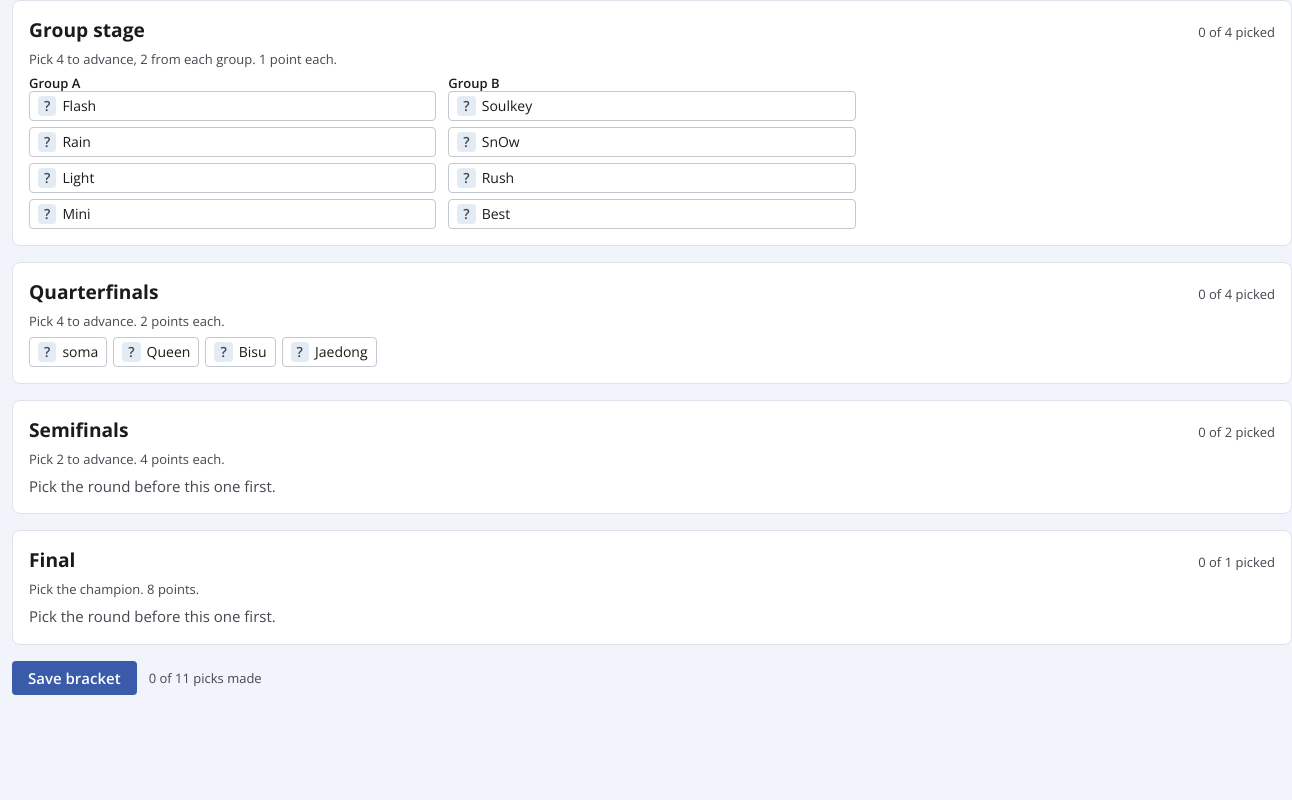
it: BracketEditor › saves the bracket and says how much of it is filled in
Click the button "? Flash" at point(79, 106), box [29,91,436,121]
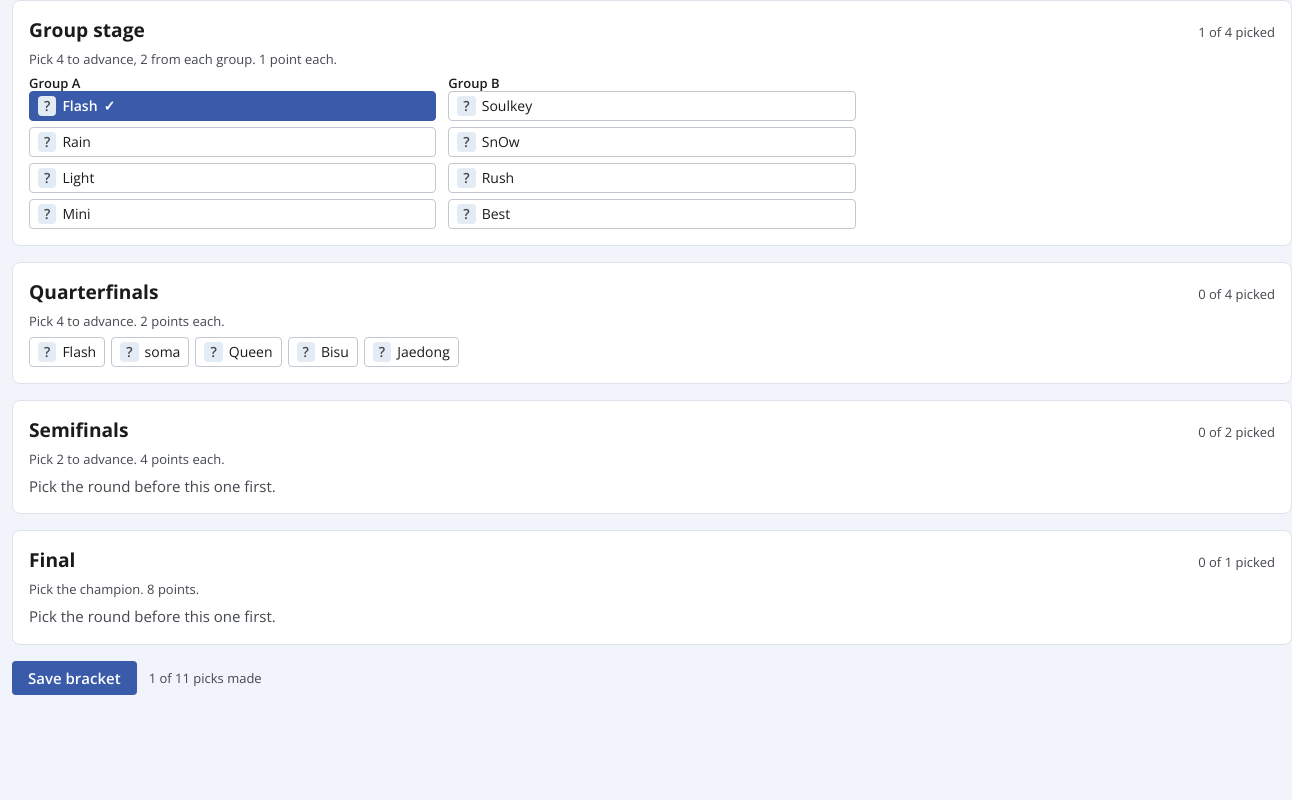
Click the button "? soma" at point(150, 352), box [111,337,189,367]
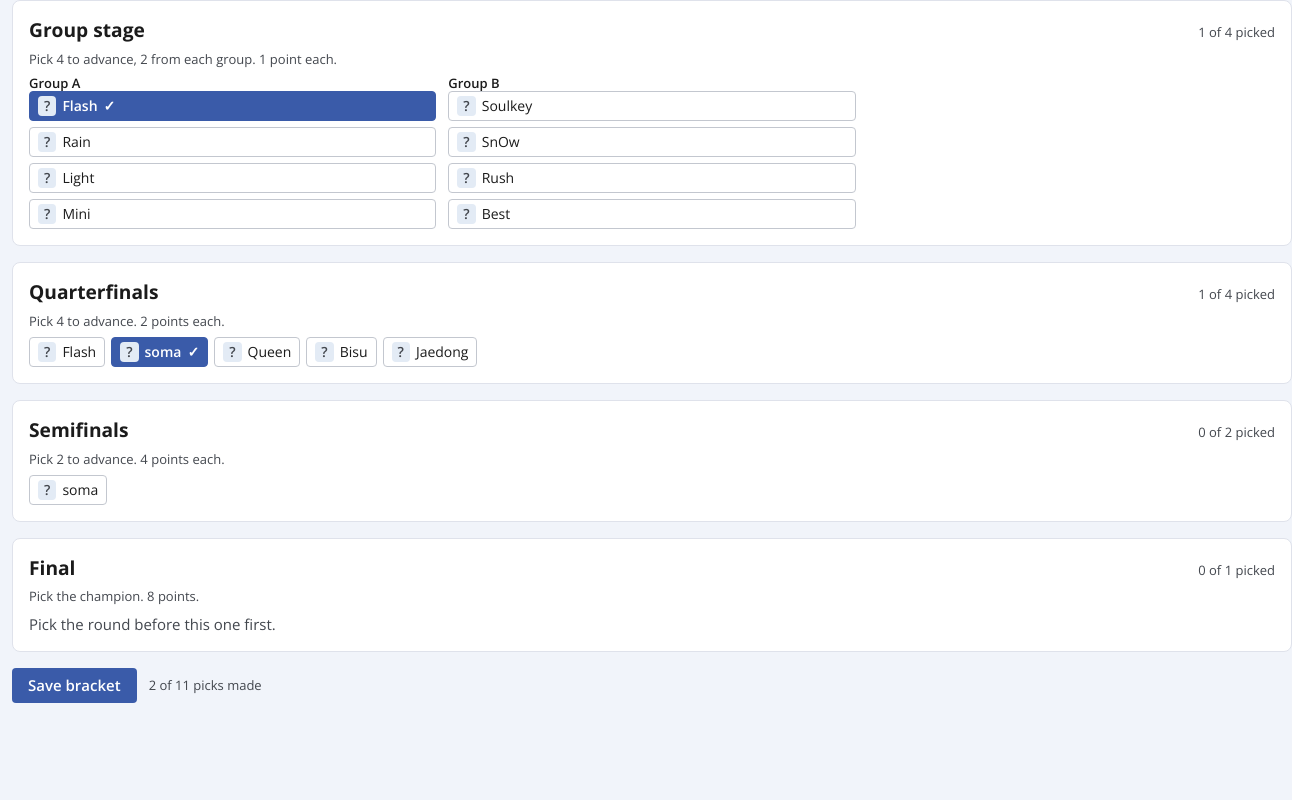
Click the button "Save bracket" at point(74, 685), box [12,668,137,703]
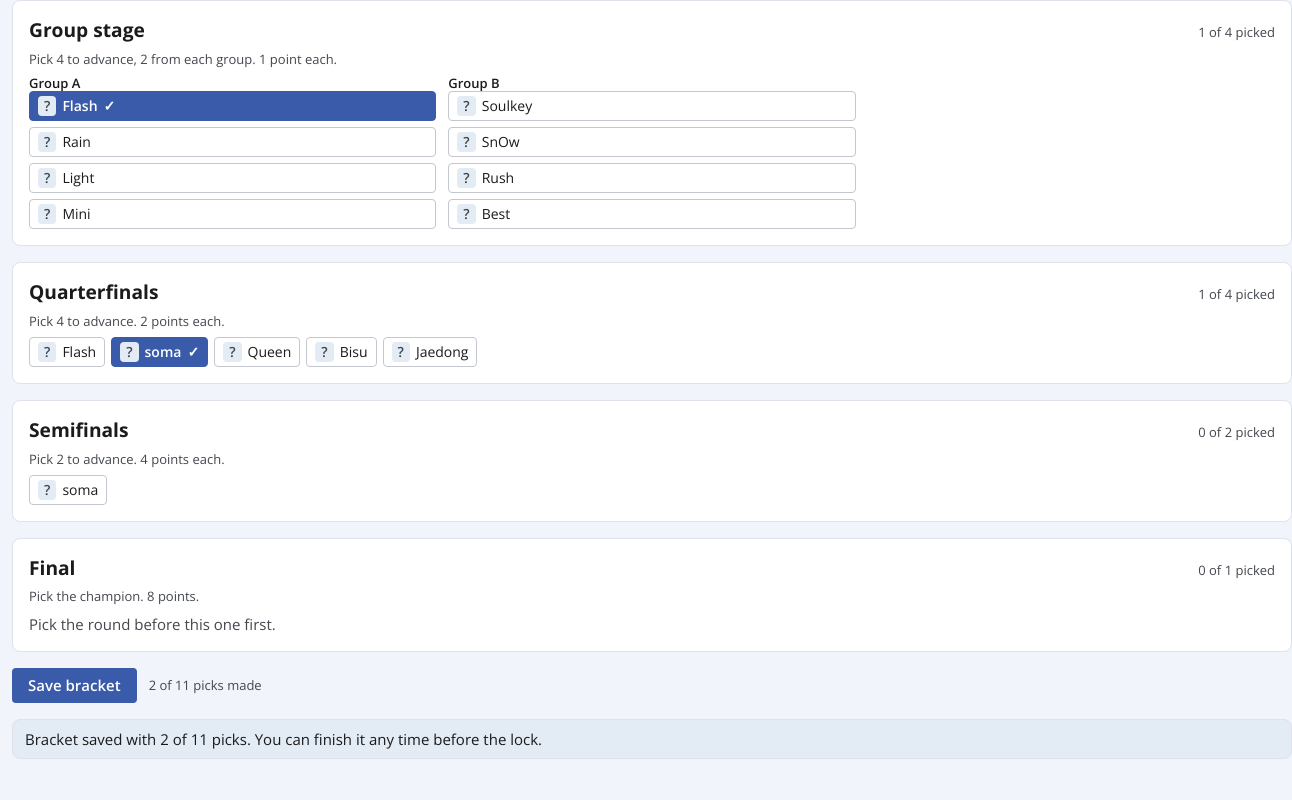
Now the message shows "Bracket saved with 2 of 11 picks.", box [25,729,542,749]
